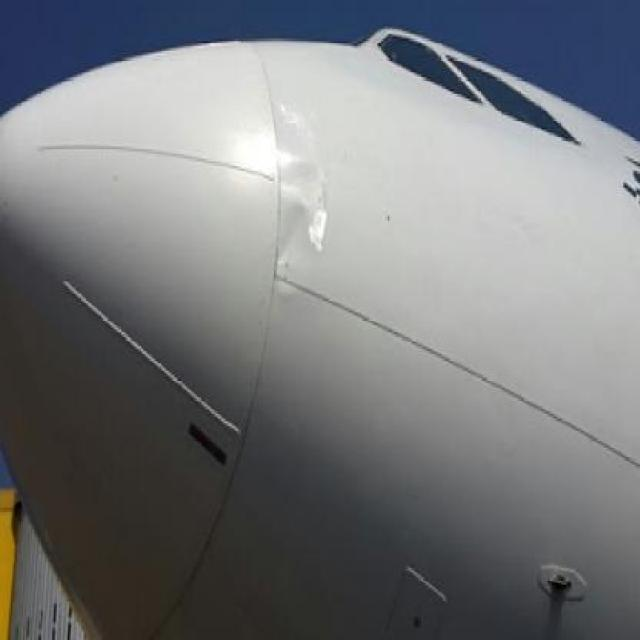dent: (261, 102, 337, 309)
